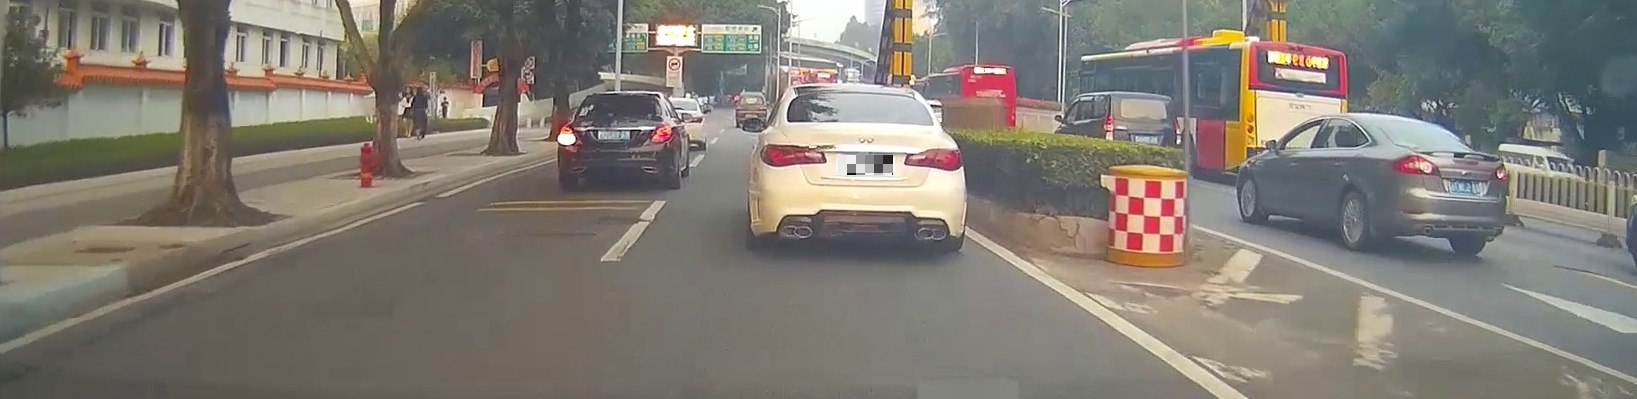L_light: (759, 144, 827, 168), (1394, 154, 1441, 177), (557, 125, 579, 146), (1104, 116, 1114, 141)
R_light: (904, 147, 963, 171), (650, 123, 673, 144), (1494, 162, 1508, 182), (1173, 120, 1182, 146)
T_light: (849, 92, 878, 98), (1399, 120, 1422, 126), (1136, 96, 1150, 101), (612, 95, 628, 99)
day-left: (557, 91, 675, 191)
day-no: (756, 84, 965, 251), (1368, 114, 1510, 254), (1102, 92, 1183, 171)
plate_1: (838, 155, 893, 175)
